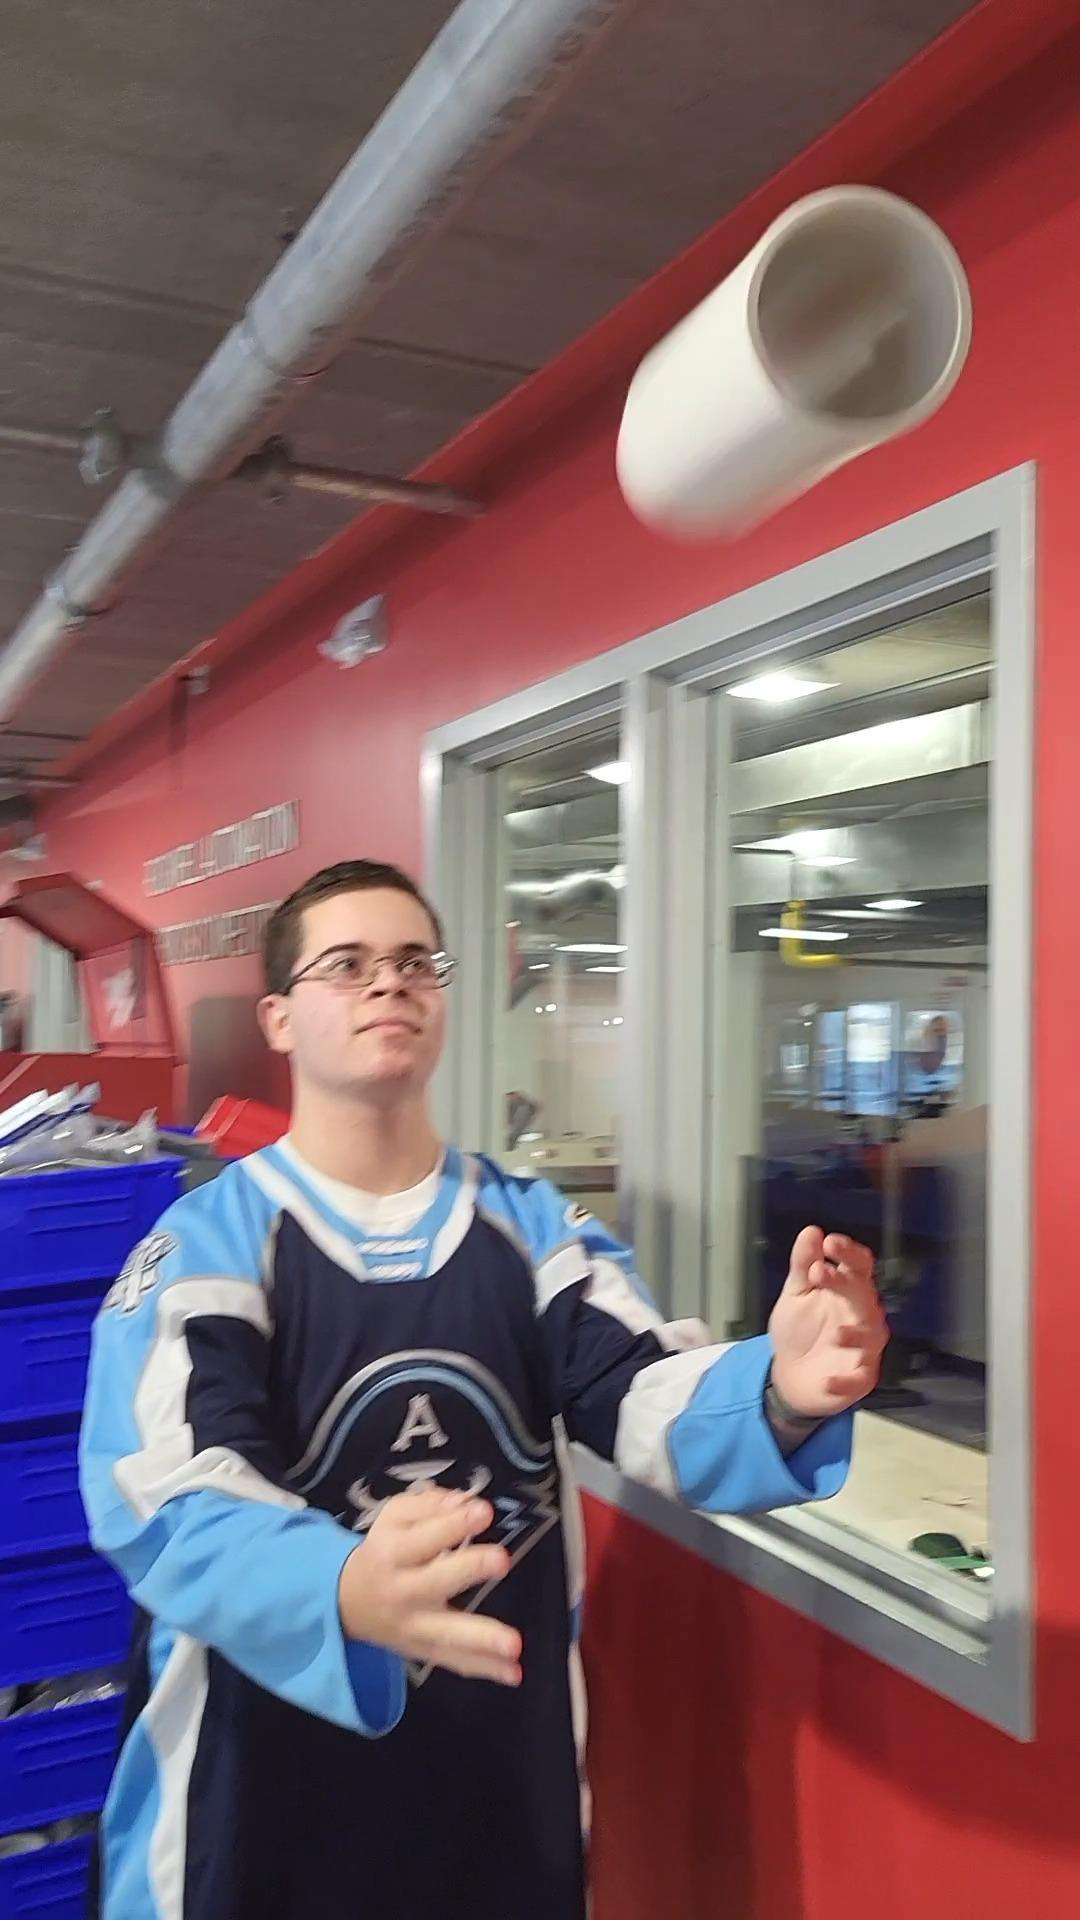coral: (617, 183, 973, 556)
